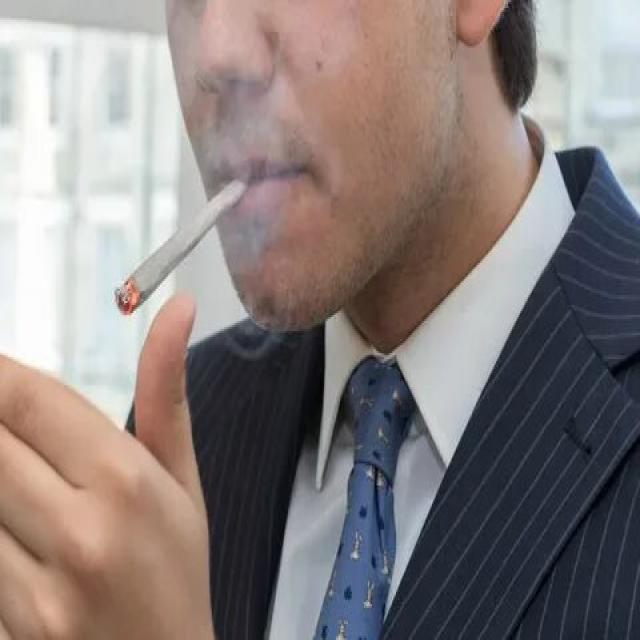cigarette: (109, 171, 252, 321)
